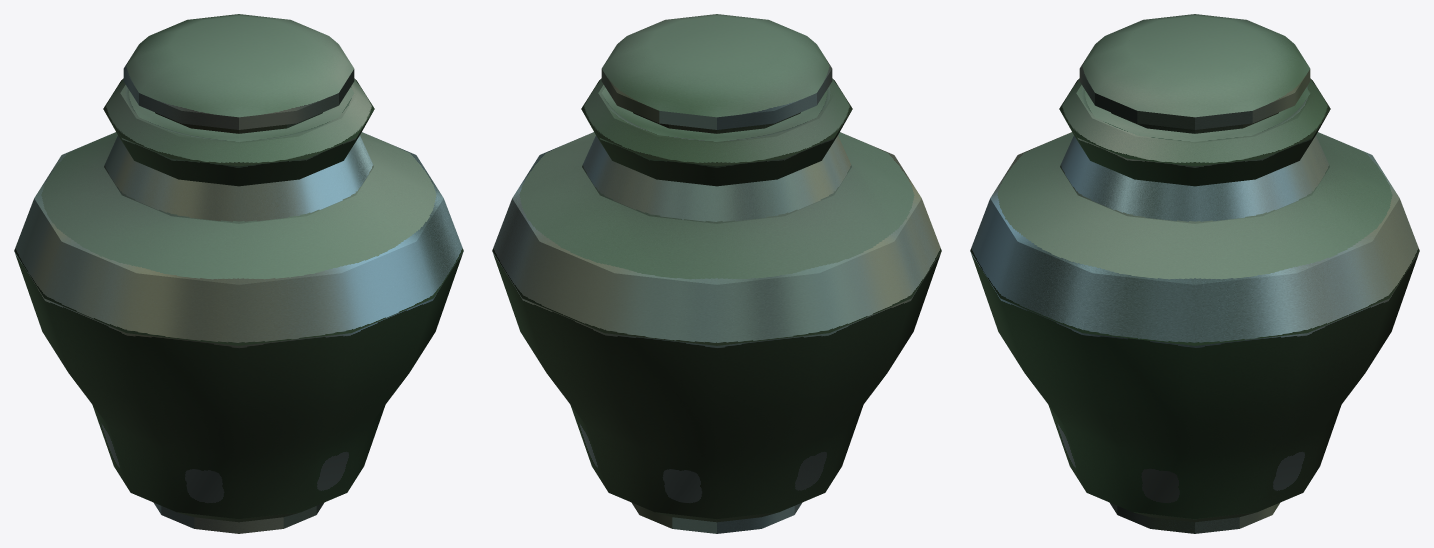
Rendered from urn04.fbx.
3 renders of one model, left to right at view 1: azimuth 30°, elevation 25°; view 2: azimuth 150°, elevation 25°; view 3: azimuth 270°, elevation 25°, orthographic.
Parts seen in each view (by area): view 1: urn.001; view 2: urn.001; view 3: urn.001.
Boxes of the visible parts, <box> form: urn.001: <box>14,14,463,533</box>; urn.001: <box>492,14,941,533</box>; urn.001: <box>970,14,1419,533</box>.
Bounding box in the file's own units: 0.2731 × 0.2731 × 0.3019.
Materials: 1 (1 with a texture image).
